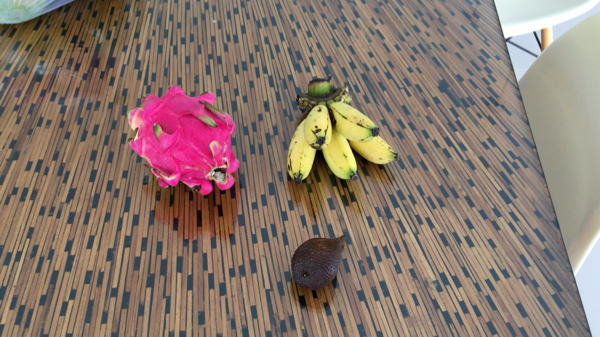banana: (280, 72, 400, 188)
dragon fruit: (128, 87, 245, 198)
snake fruit: (293, 232, 352, 287)
